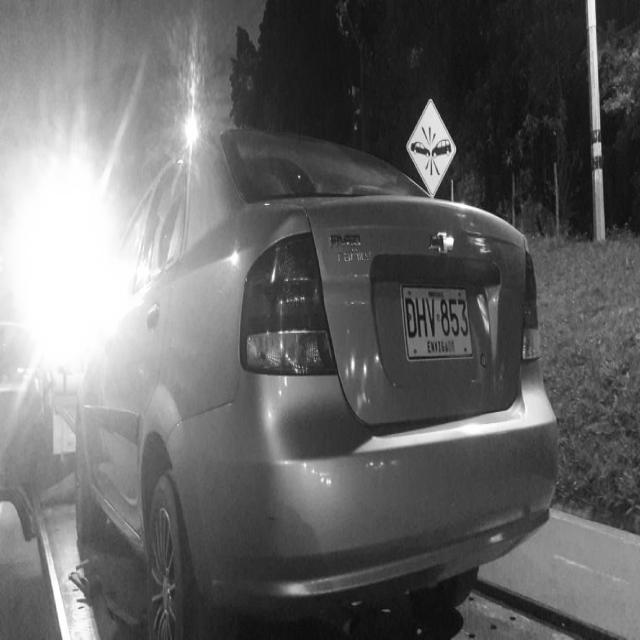plate: (399, 285, 474, 365)
